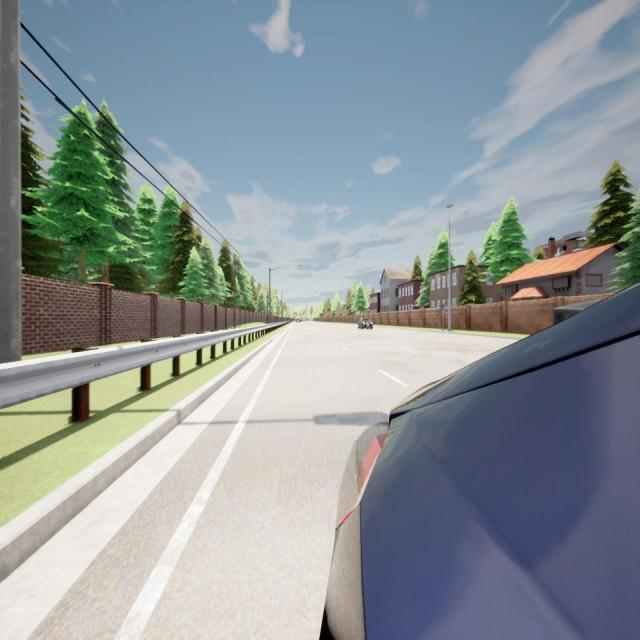Traffic_Signs: (440, 304, 445, 312)
Vehicle: (326, 284, 640, 637), (358, 319, 373, 330), (296, 318, 301, 322)
